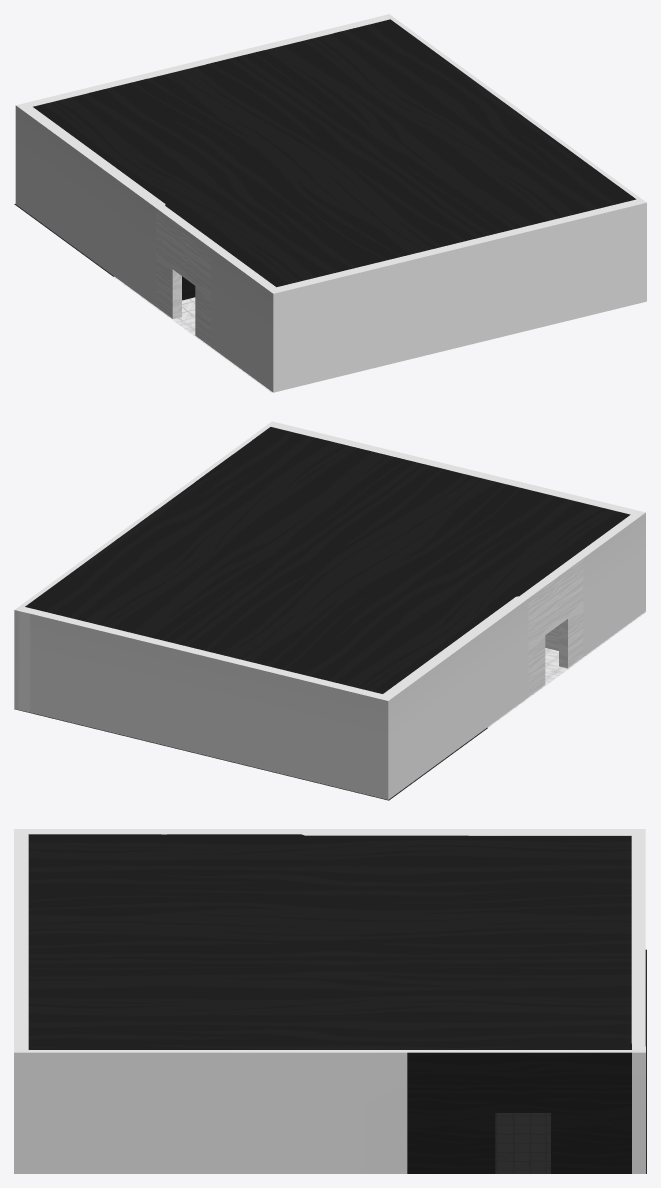
File: ConveyorBeltRoom.fbx
The picture shows the model from 3 angles, top to bottom: view 1: azimuth 30°, elevation 25°; view 2: azimuth 150°, elevation 25°; view 3: azimuth 270°, elevation 25°; orthographic projection. The views are drawn at different scales.
Visible parts, largest first — view 1: ConveyorBeltRoom; view 2: ConveyorBeltRoom; view 3: ConveyorBeltRoom.
Part boxes in pixels (left/top/right/bottom): ConveyorBeltRoom: left=14, top=14, right=646, bottom=392; ConveyorBeltRoom: left=14, top=421, right=646, bottom=800; ConveyorBeltRoom: left=14, top=829, right=646, bottom=1173.
Size of the model in its own units: 10276 by 2591 by 12255.
